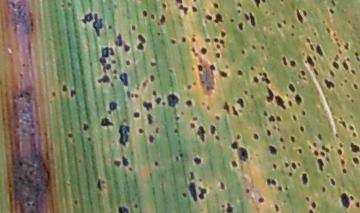tarspot: (100, 47, 111, 73), (92, 14, 104, 37), (119, 125, 129, 146), (188, 181, 198, 202), (166, 93, 180, 107), (340, 191, 350, 209), (275, 95, 287, 109), (237, 147, 248, 162), (119, 71, 129, 87), (136, 33, 145, 50), (197, 125, 206, 142), (96, 74, 111, 83), (198, 185, 207, 200), (81, 14, 94, 24), (265, 88, 274, 102), (213, 13, 224, 24), (295, 9, 303, 24), (305, 56, 315, 68), (249, 10, 256, 27), (101, 117, 114, 126), (316, 43, 324, 57), (317, 157, 325, 171), (142, 101, 153, 111), (178, 5, 189, 15), (325, 78, 335, 89), (350, 142, 360, 153), (294, 94, 303, 106), (115, 32, 122, 47), (268, 145, 278, 155), (230, 105, 238, 117), (223, 100, 230, 113), (301, 172, 308, 185), (96, 178, 103, 191), (192, 156, 202, 165), (159, 14, 166, 26), (288, 82, 295, 94), (118, 206, 130, 213), (288, 58, 297, 67), (218, 70, 228, 78), (237, 98, 245, 108), (322, 143, 330, 153), (146, 114, 153, 125), (342, 60, 349, 71), (226, 202, 233, 213), (109, 101, 117, 110), (190, 47, 198, 56), (327, 6, 335, 15), (252, 75, 260, 84), (230, 159, 238, 168), (121, 156, 128, 166), (219, 39, 226, 49), (281, 56, 288, 66), (261, 77, 271, 84), (209, 125, 216, 135), (330, 176, 337, 186), (238, 20, 244, 31), (219, 180, 225, 191), (332, 61, 340, 69), (267, 114, 275, 122), (70, 89, 77, 98), (82, 123, 89, 132), (231, 141, 238, 150), (142, 78, 148, 88), (325, 26, 331, 36), (340, 118, 346, 128), (189, 170, 195, 180), (62, 84, 69, 92), (66, 132, 74, 139), (10, 2, 17, 10), (133, 111, 140, 119), (124, 44, 131, 52), (155, 97, 162, 105), (185, 99, 192, 107), (199, 47, 207, 54), (204, 15, 212, 22), (253, 1, 260, 9), (328, 69, 335, 77), (252, 132, 259, 140), (353, 157, 360, 165), (265, 177, 272, 185), (197, 63, 203, 72), (302, 9, 308, 18), (265, 128, 271, 137), (336, 147, 342, 156), (311, 200, 317, 209), (274, 203, 280, 212), (149, 134, 154, 144), (355, 52, 360, 62), (137, 127, 144, 134), (170, 38, 177, 45), (191, 6, 198, 13), (244, 14, 251, 21), (276, 22, 283, 29), (220, 31, 227, 38), (213, 36, 220, 43), (209, 64, 216, 71), (237, 69, 244, 76), (181, 191, 188, 198), (149, 74, 155, 82), (150, 61, 158, 67), (161, 2, 167, 10), (344, 42, 350, 50), (300, 68, 306, 76), (288, 100, 294, 108), (291, 162, 297, 170), (297, 147, 303, 155), (317, 133, 323, 141), (271, 177, 277, 185), (257, 197, 265, 203), (110, 47, 115, 56), (127, 90, 132, 99), (50, 91, 56, 98), (18, 160, 24, 167), (85, 136, 92, 142), (67, 1, 73, 8), (114, 160, 121, 166), (142, 10, 148, 17), (190, 122, 196, 129), (192, 115, 199, 121), (168, 67, 174, 74), (213, 2, 219, 9), (229, 18, 236, 24), (289, 31, 296, 37), (353, 83, 359, 90), (333, 54, 339, 61), (309, 44, 315, 51), (240, 49, 246, 56), (302, 75, 308, 82), (243, 88, 249, 95), (213, 135, 220, 141), (276, 115, 282, 122), (279, 136, 285, 143), (283, 161, 289, 168), (299, 125, 305, 132), (319, 151, 326, 157), (277, 185, 283, 192), (197, 176, 203, 183), (131, 23, 136, 31), (351, 68, 356, 76), (290, 135, 295, 143), (314, 150, 319, 158), (334, 130, 339, 138), (321, 185, 326, 193), (18, 72, 24, 78), (18, 93, 24, 99), (107, 24, 113, 30), (112, 68, 118, 74), (153, 160, 159, 166), (154, 127, 160, 133), (152, 90, 158, 96), (179, 110, 185, 116), (186, 84, 192, 90), (190, 65, 196, 71), (343, 78, 349, 84), (337, 49, 343, 55), (305, 38, 311, 44), (215, 53, 221, 59), (263, 111, 269, 117), (215, 115, 221, 121), (272, 124, 278, 130), (306, 144, 312, 150), (342, 168, 348, 174), (17, 174, 23, 180), (134, 92, 139, 99), (110, 60, 117, 65), (150, 13, 155, 20), (181, 36, 186, 43), (204, 38, 211, 43), (313, 69, 318, 76), (301, 109, 306, 116), (292, 114, 297, 121), (272, 163, 277, 170), (312, 141, 317, 148), (325, 156, 330, 163), (134, 202, 139, 209), (73, 199, 78, 206), (29, 169, 34, 176), (339, 140, 343, 148), (126, 60, 131, 66), (110, 82, 115, 88), (174, 116, 180, 121), (174, 155, 179, 161), (179, 152, 185, 157), (192, 80, 197, 86), (237, 2, 242, 8), (282, 19, 287, 25), (290, 23, 295, 29), (331, 1, 336, 7), (270, 11, 276, 16), (346, 93, 351, 99), (251, 45, 257, 50), (258, 71, 263, 77), (206, 105, 211, 111), (236, 134, 241, 140), (349, 125, 354, 131), (355, 202, 360, 208), (305, 196, 310, 202), (284, 185, 289, 191), (220, 203, 226, 208), (206, 85, 211, 91), (26, 201, 31, 207), (192, 36, 196, 43), (353, 132, 357, 139), (341, 159, 345, 166), (21, 62, 26, 67), (174, 128, 179, 133), (265, 10, 270, 15), (346, 57, 351, 62), (334, 37, 339, 42), (333, 32, 338, 37), (301, 52, 306, 57), (260, 45, 265, 50), (216, 44, 221, 49), (224, 64, 229, 69), (250, 66, 255, 71), (263, 72, 268, 77), (282, 145, 287, 150), (297, 162, 302, 167), (157, 31, 161, 37), (175, 1, 183, 4), (337, 42, 341, 48), (322, 19, 326, 25), (313, 31, 317, 37), (313, 55, 317, 61), (238, 109, 244, 113), (350, 195, 354, 201), (200, 80, 206, 84), (108, 110, 112, 115), (128, 167, 133, 171), (113, 76, 118, 80), (162, 101, 166, 106), (237, 9, 241, 14), (269, 27, 273, 32), (250, 94, 254, 99), (201, 102, 206, 106), (289, 171, 293, 176), (349, 115, 354, 119), (309, 209, 314, 213), (246, 188, 250, 193), (102, 179, 106, 184), (61, 4, 65, 8), (348, 20, 352, 24), (351, 99, 355, 103), (261, 1, 266, 4), (280, 1, 284, 4), (192, 1, 197, 3)
